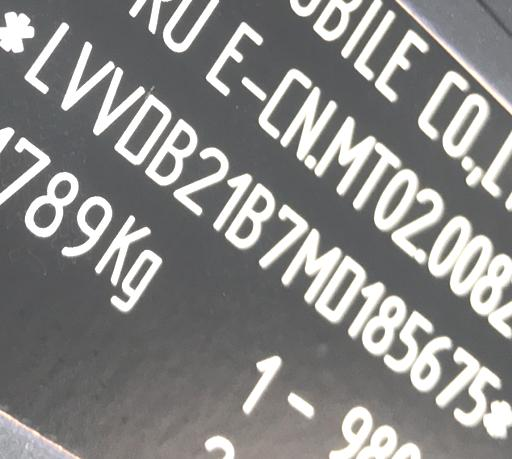letter: (20, 17, 76, 96), (282, 229, 342, 302), (58, 42, 116, 112), (175, 144, 229, 217), (114, 96, 170, 163), (90, 70, 144, 137), (316, 256, 366, 321), (226, 184, 276, 247), (149, 119, 195, 186), (258, 205, 308, 266), (210, 169, 258, 230), (434, 347, 482, 406), (454, 366, 502, 425), (343, 279, 387, 341), (386, 312, 432, 371), (364, 295, 406, 353), (413, 334, 451, 393)
